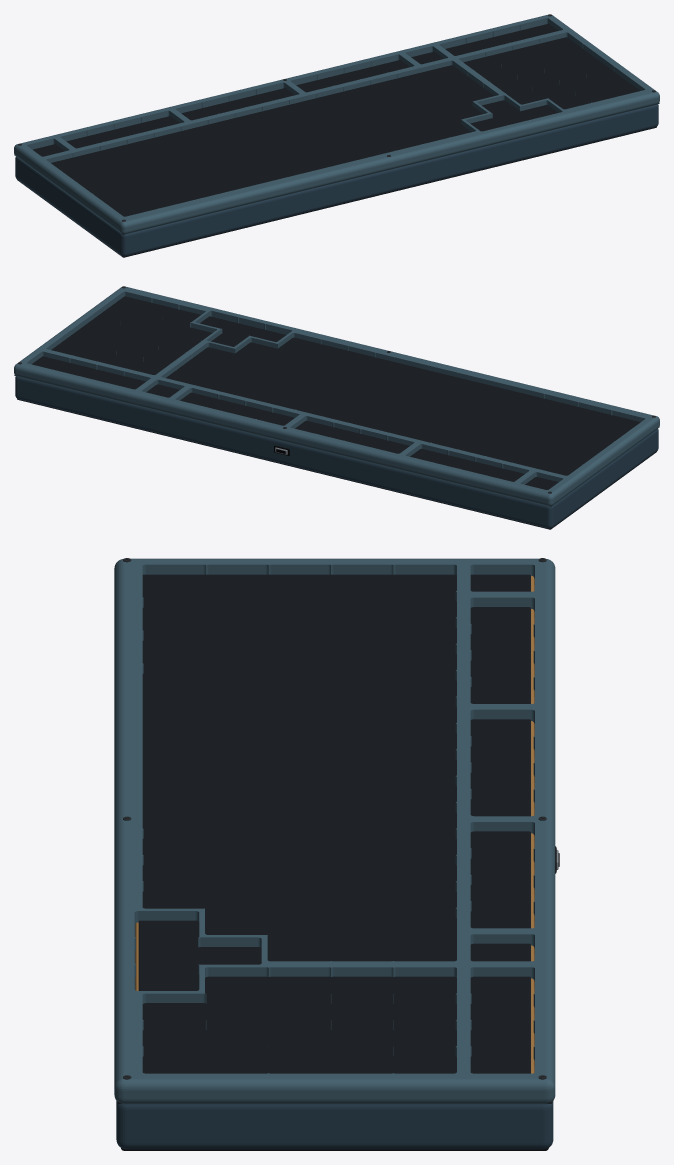
Rendered from ansi-99.glb.
3 views of the same model, one above another, from view 1: azimuth 30°, elevation 25°; view 2: azimuth 150°, elevation 25°; view 3: azimuth 270°, elevation 25° (orthographic). The views are drawn at different scales.
Visible parts, largest first — view 1: KeybedShadow, TopFrame, CaseBody, BottomEdge; view 2: KeybedShadow, TopFrame, CaseBody, BottomEdge; view 3: KeybedShadow, TopFrame, CaseBody, Plate, BottomEdge.
Boxes of the visible parts, x1,y1,x2,y2 form: KeybedShadow: [33, 23, 639, 216]; TopFrame: [14, 15, 659, 234]; CaseBody: [15, 104, 658, 256]; BottomEdge: [17, 127, 656, 257]; KeybedShadow: [32, 296, 640, 489]; TopFrame: [14, 287, 659, 506]; CaseBody: [15, 376, 658, 528]; BottomEdge: [17, 399, 656, 529]; KeybedShadow: [138, 574, 530, 1073]; TopFrame: [114, 558, 555, 1104]; CaseBody: [116, 585, 553, 1149]; Plate: [135, 575, 534, 1073]; BottomEdge: [121, 1148, 548, 1150].
Bounding box in the file's own units: 0.3797 × 0.0263 × 0.1357.
